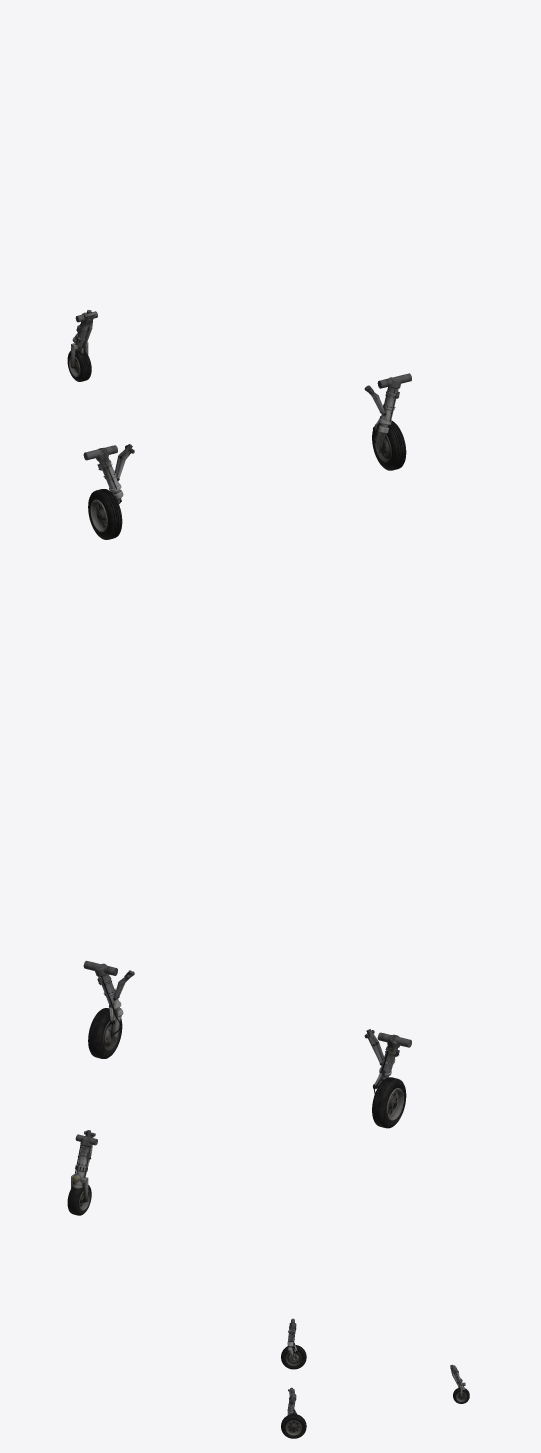
File: e_hunter_gear.glb
3 renders of one model, top to bottom at view 1: azimuth 30°, elevation 25°; view 2: azimuth 150°, elevation 25°; view 3: azimuth 270°, elevation 25°, orthographic. The views are drawn at different scales.
Visible parts, largest first — view 1: body|HN_paint; view 2: body|HN_paint; view 3: body|HN_paint.
Boxes of the visible parts, x1,y1,x2,y2 form: body|HN_paint: (67, 310, 411, 539); body|HN_paint: (67, 960, 411, 1215); body|HN_paint: (281, 1318, 469, 1438).
Bounding box in the file's own units: 5.14 × 4.82 × 14.08.
Materials: 1 (1 with a texture image).
